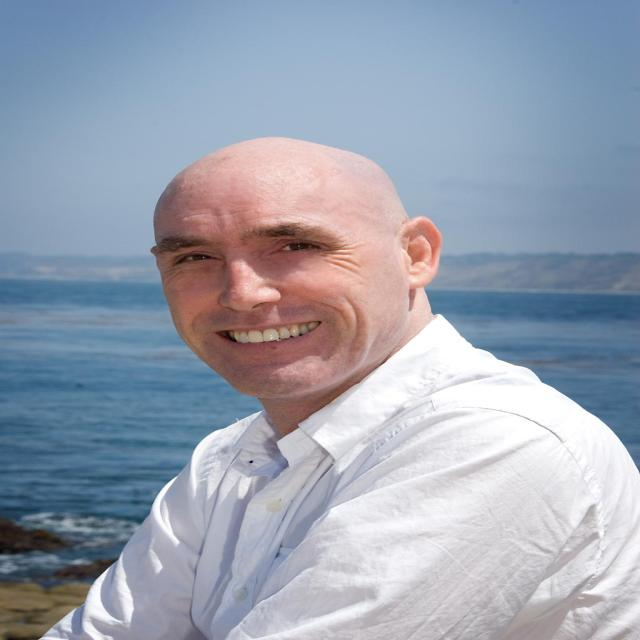Face: (147, 161, 382, 403)
